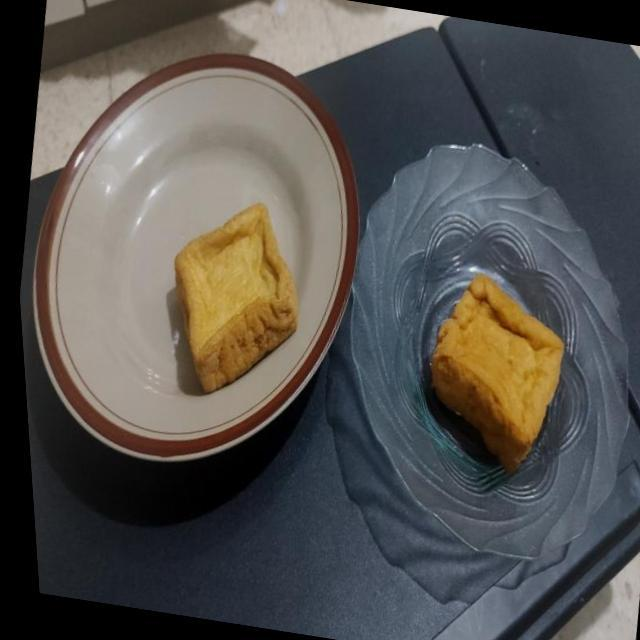tahu_goreng: (432, 274, 564, 474), (175, 204, 298, 392)
